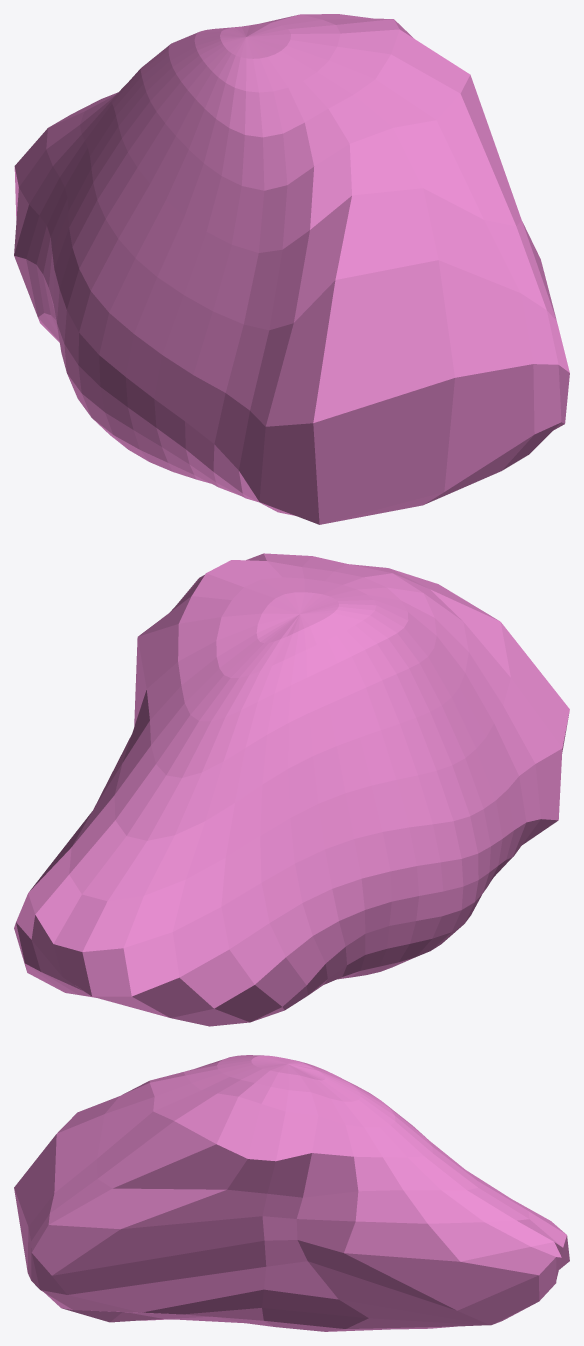
The model's file is cloud1.glb.
3 renders of one model, top to bottom at view 1: azimuth 30°, elevation 25°; view 2: azimuth 150°, elevation 25°; view 3: azimuth 270°, elevation 25°, orthographic. The views are drawn at different scales.
Parts seen in each view (by area): view 1: Sphere; view 2: Sphere; view 3: Sphere.
Part boxes in pixels (<box>): Sphere: <box>14,14,569,524</box>; Sphere: <box>14,553,569,1026</box>; Sphere: <box>14,1055,569,1331</box>.
Bounding box in the file's own units: 2.77 × 2.96 × 5.74.
